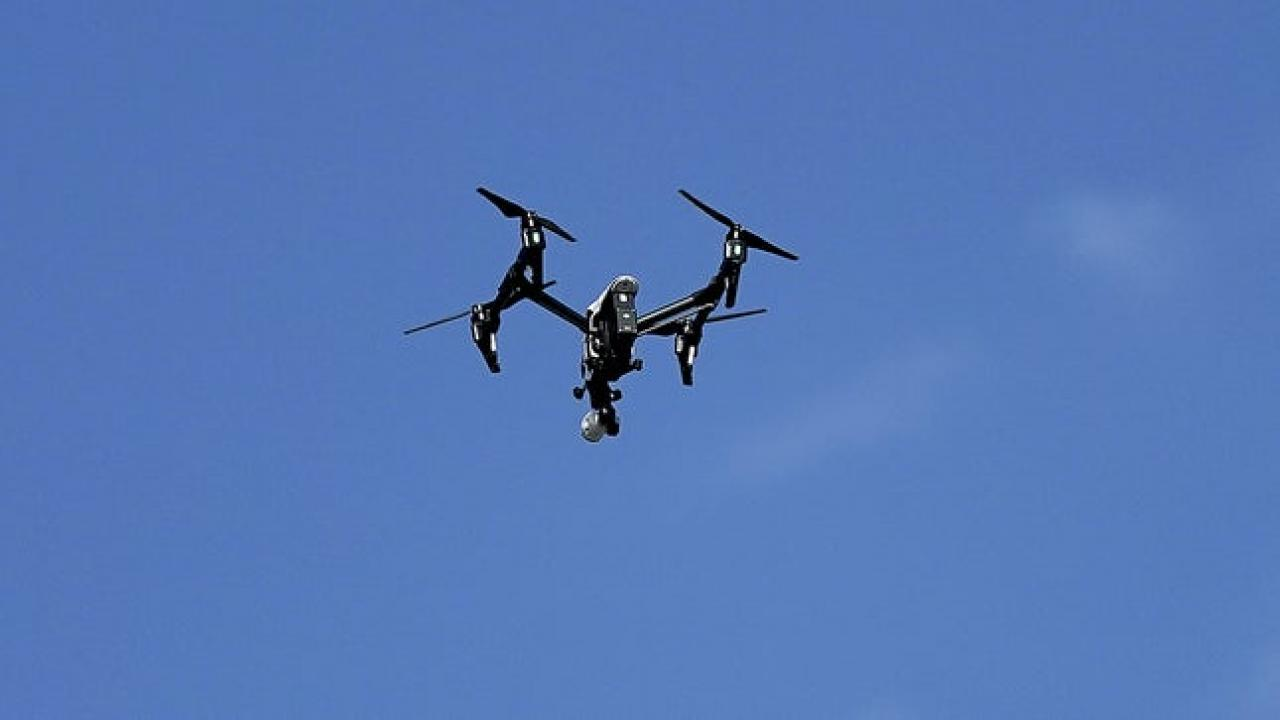Drone: (390, 179, 809, 452)
